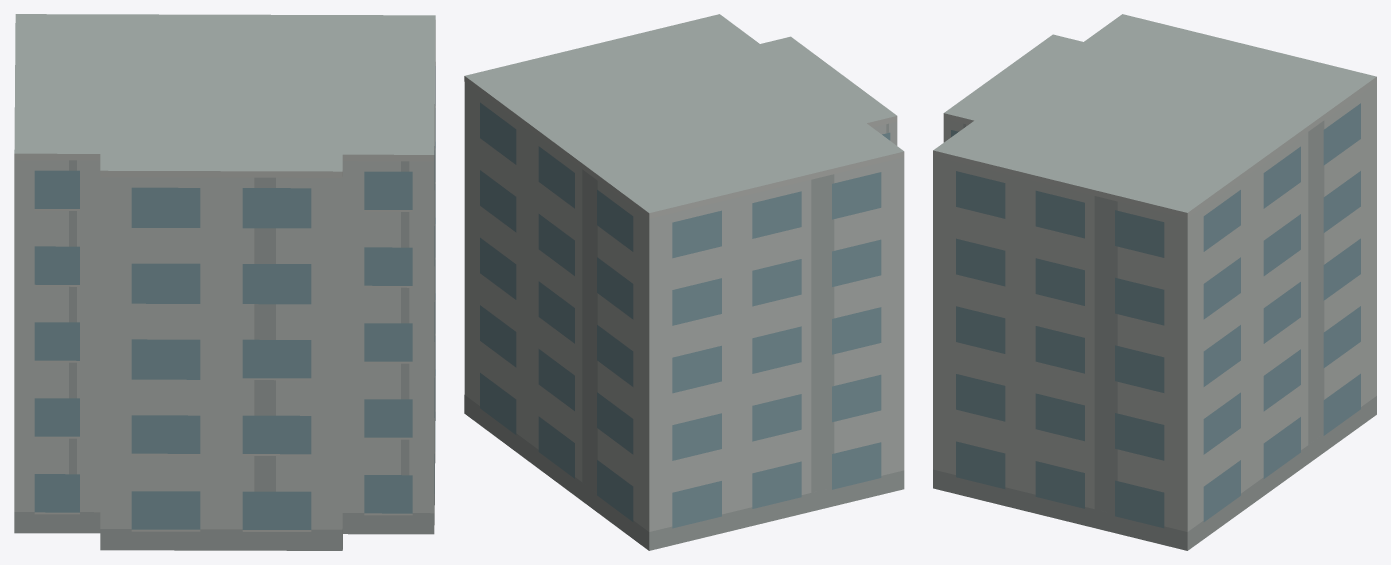
The model's file is survey-upis-32808355.glb.
3 views of the same model, side by side, from view 1: azimuth 30°, elevation 25°; view 2: azimuth 150°, elevation 25°; view 3: azimuth 270°, elevation 25° (orthographic). The views are drawn at different scales.
Parts seen in each view (by area): view 1: survey-upis-32808355.tmp; view 2: survey-upis-32808355.tmp; view 3: survey-upis-32808355.tmp.
Part boxes in pixels (<box>): survey-upis-32808355.tmp: <box>14,14,435,550</box>; survey-upis-32808355.tmp: <box>464,14,904,550</box>; survey-upis-32808355.tmp: <box>933,14,1376,550</box>.
Bounding box in the file's own units: 18.06 × 14.3 × 17.03.
